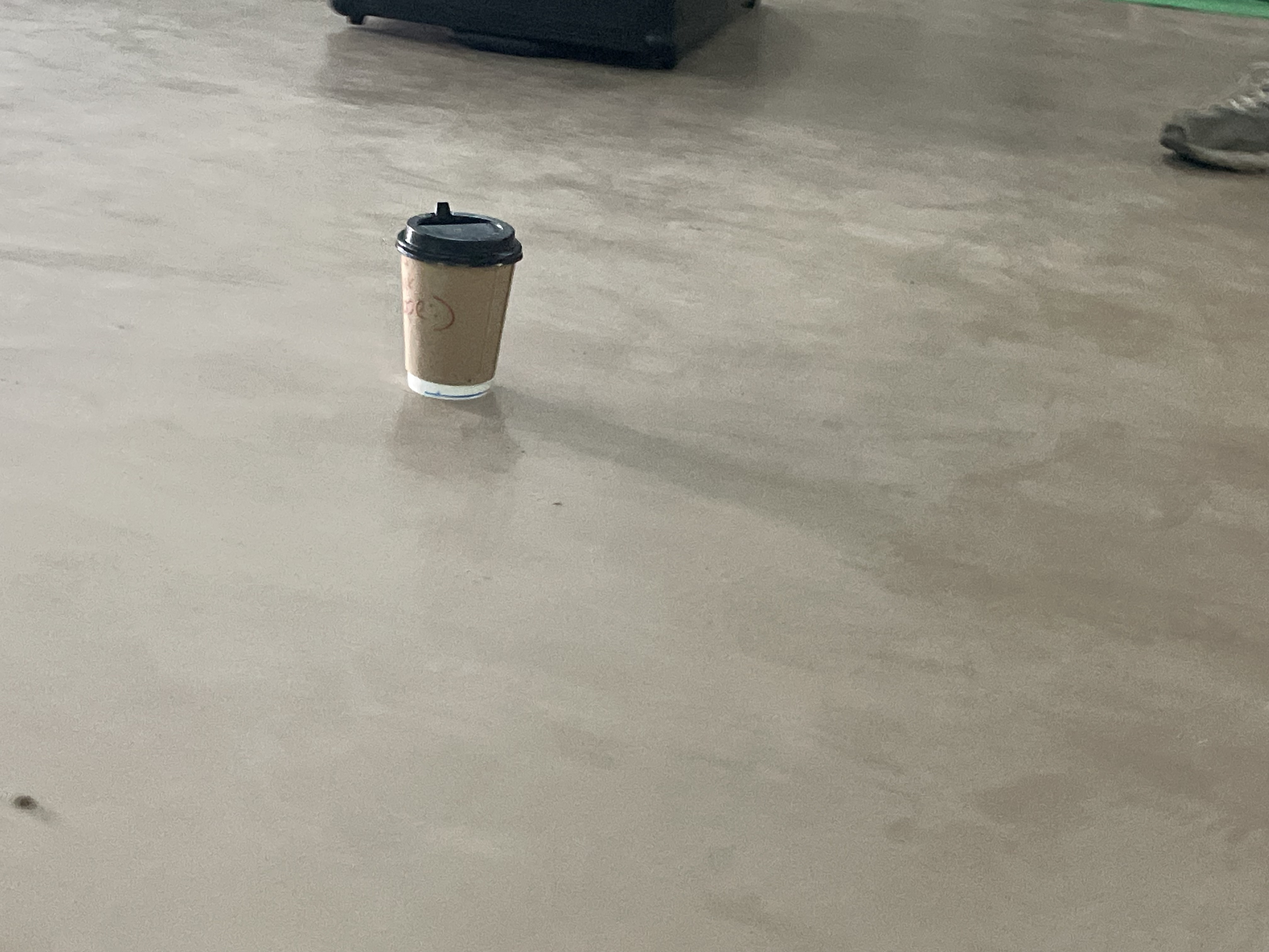cup: (394, 202, 523, 401)
